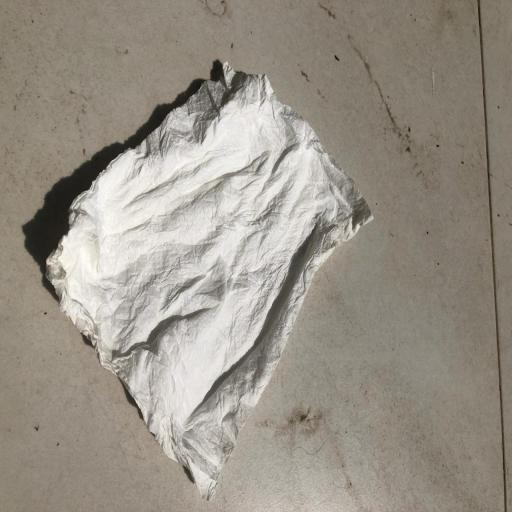waste: (40, 54, 378, 505)
